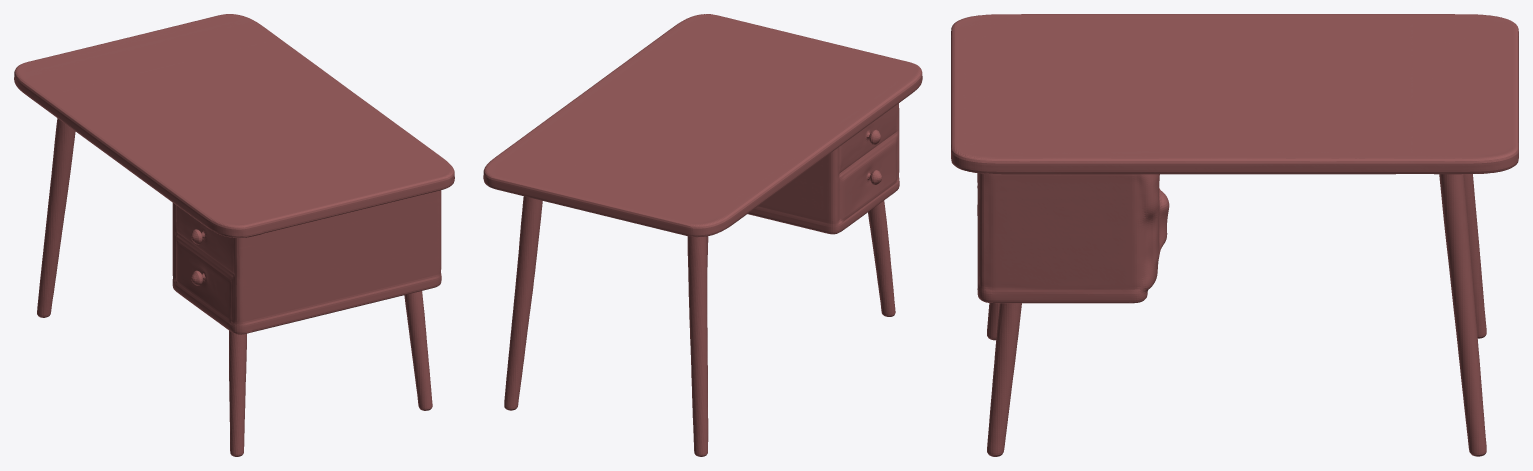
3 views of the same model, side by side, from view 1: azimuth 30°, elevation 25°; view 2: azimuth 150°, elevation 25°; view 3: azimuth 270°, elevation 25° (orthographic). The views are drawn at different scales.
Parts seen in each view (by area): view 1: tmprzpg6qljply; view 2: tmprzpg6qljply; view 3: tmprzpg6qljply.
Part boxes in pixels (x1=…): tmprzpg6qljply: x1=14, y1=14, x2=454, y2=456; tmprzpg6qljply: x1=483, y1=14, x2=922, y2=456; tmprzpg6qljply: x1=951, y1=14, x2=1518, y2=456.
Bounding box in the file's own units: 1.21 × 1.17 × 1.96.
